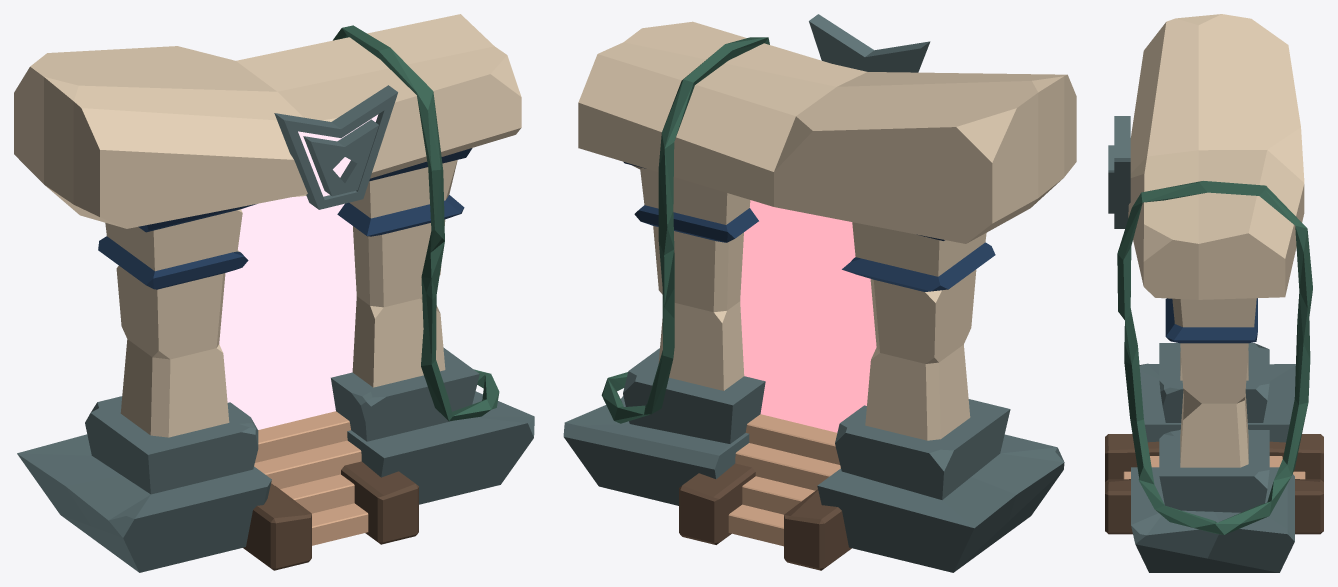
The model's file is gateway.fbx.
3 renders of one model, left to right at view 1: azimuth 30°, elevation 25°; view 2: azimuth 150°, elevation 25°; view 3: azimuth 270°, elevation 25°, orthographic. The views are drawn at different scales.
Parts seen in each view (by area): view 1: Cube, Cube.001, Plane, Cube.002, Plane.001, Cube.003, Circle; view 2: Cube, Cube.001, Plane, Cube.002, Cube.003, Circle, Plane.001; view 3: Cube.001, Cube, Circle, Cube.003, Plane.001, Cube.002.
Part boxes in pixels (left/top/right/bottom): Cube: left=17, top=148, right=534, bottom=572; Cube.001: left=14, top=14, right=521, bottom=228; Plane: left=219, top=196, right=356, bottom=429; Cube.002: left=254, top=411, right=368, bottom=545; Plane.001: left=274, top=85, right=397, bottom=209; Cube.003: left=243, top=461, right=418, bottom=570; Circle: left=333, top=25, right=499, bottom=421; Cube: left=563, top=162, right=1064, bottom=572; Cube.001: left=578, top=21, right=1076, bottom=243; Plane: left=740, top=200, right=876, bottom=432; Cube.002: left=728, top=414, right=840, bottom=546; Cube.003: left=679, top=463, right=851, bottom=570; Circle: left=601, top=37, right=769, bottom=423; Plane.001: left=809, top=14, right=930, bottom=72; Cube.001: left=1128, top=14, right=1304, bottom=299; Cube: left=1131, top=298, right=1295, bottom=572; Circle: left=1117, top=181, right=1312, bottom=534; Cube.003: left=1105, top=434, right=1323, bottom=534; Plane.001: left=1108, top=116, right=1130, bottom=228; Cube.002: left=1123, top=456, right=1305, bottom=479.
Size of the model in its own units: 1236 by 1281 by 638.
